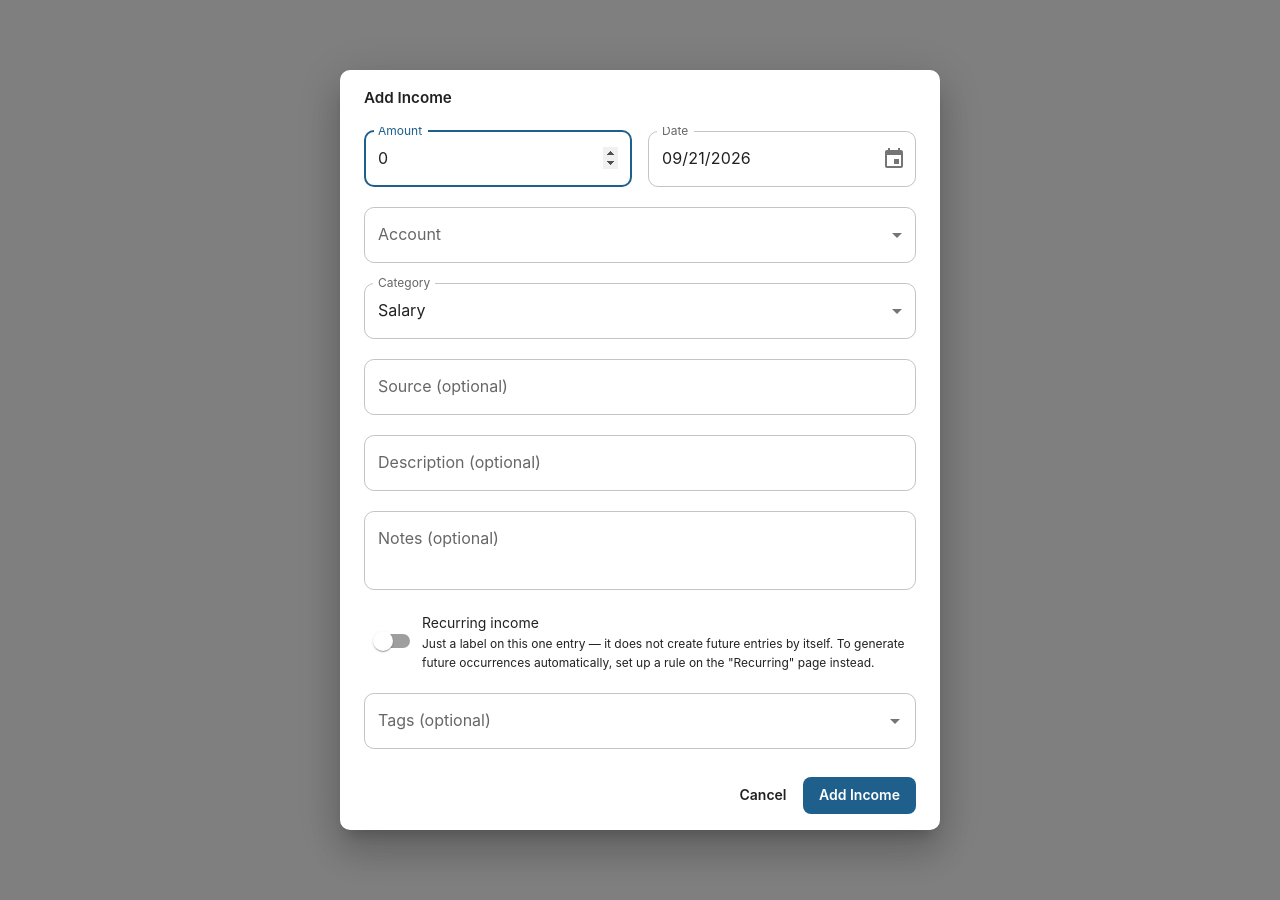
IncomeFormDialog › shows a validation error and does not submit without an account
This screenshot has width=1280, height=900.
Replace the text in the number field labelled "Amount" with "100": {"x": 498, "y": 158} [364,130,632,186]
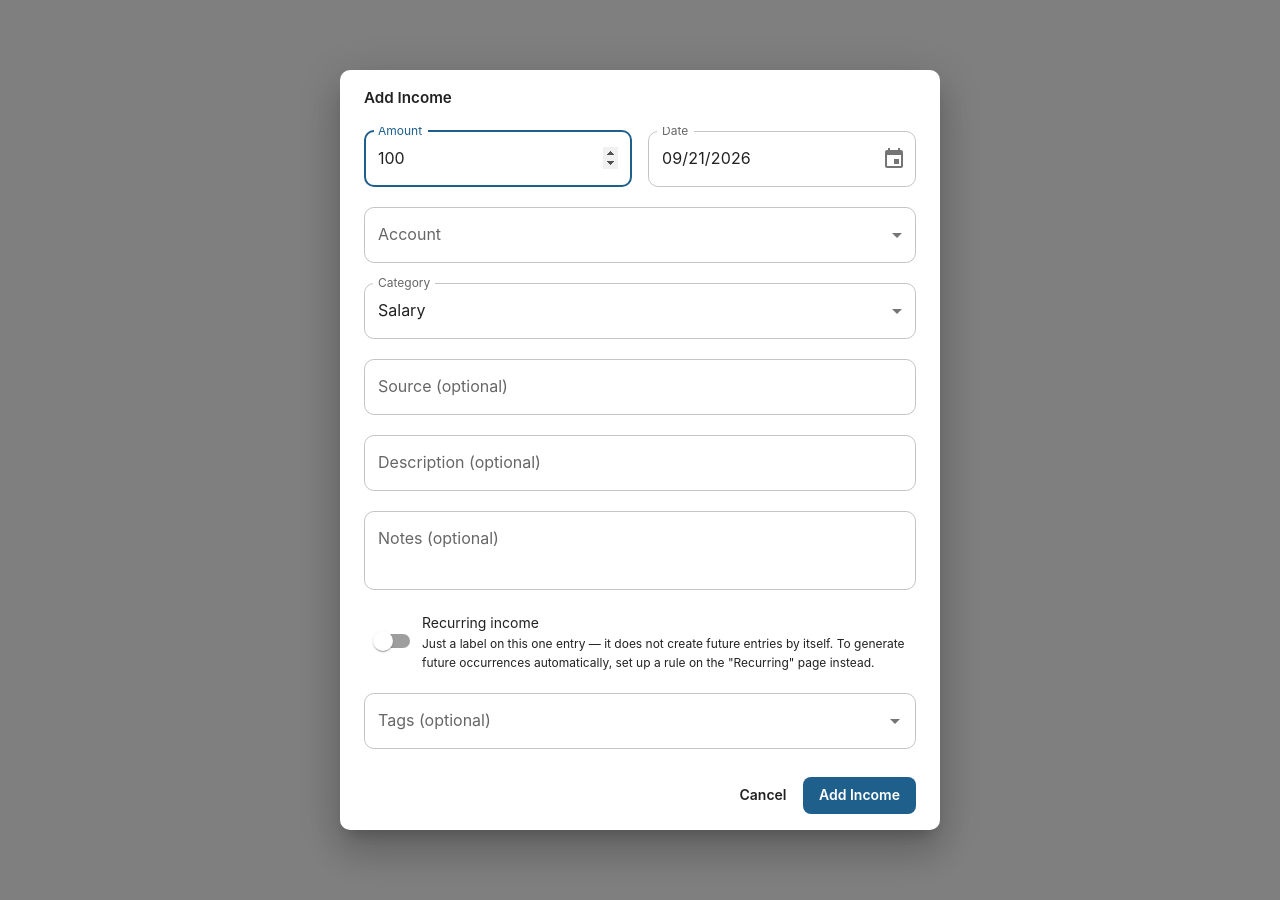
Click the button "Add Income": {"x": 860, "y": 796} [803,777,916,814]
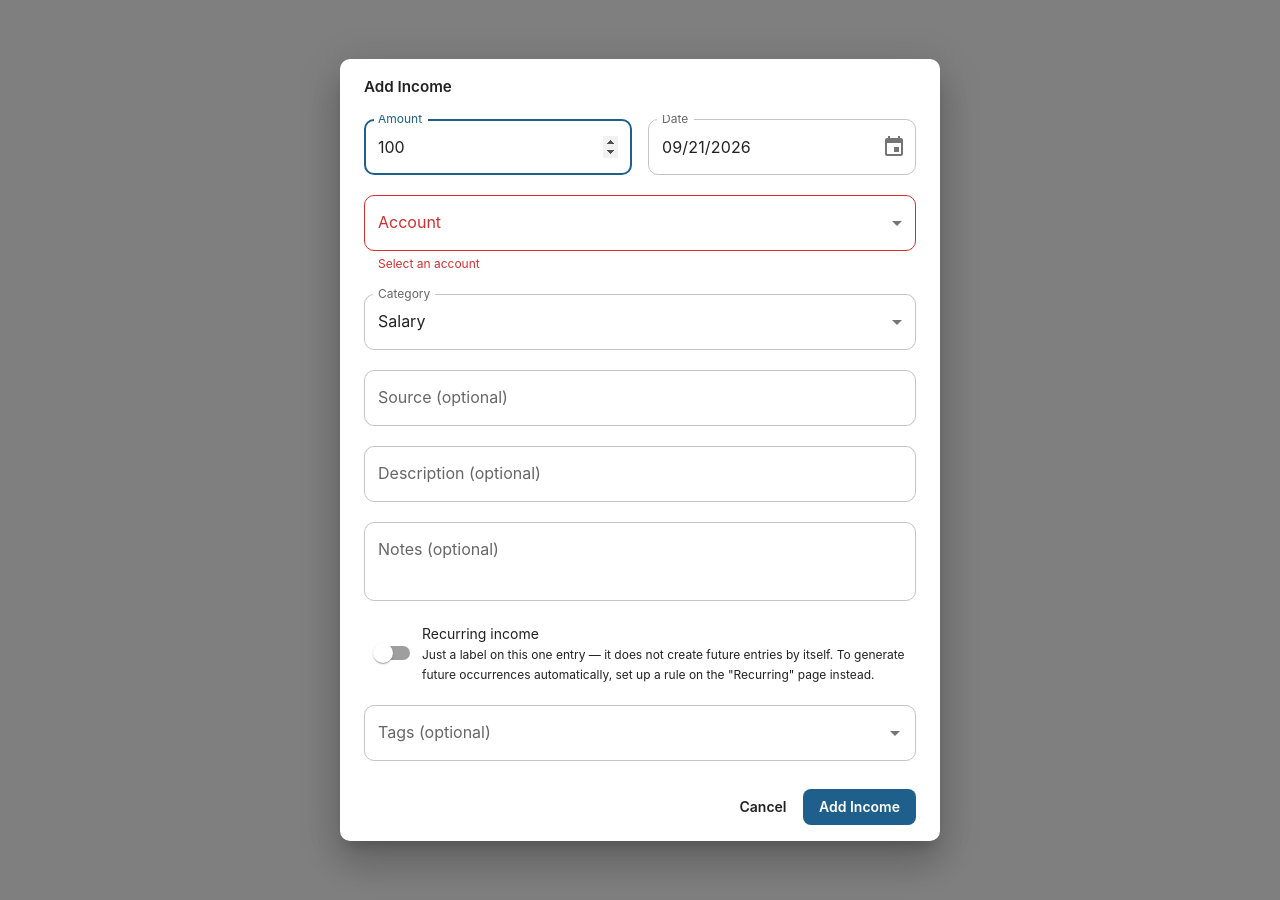
Check: the text "Select an account" is shown, box [378,256,480,271]
